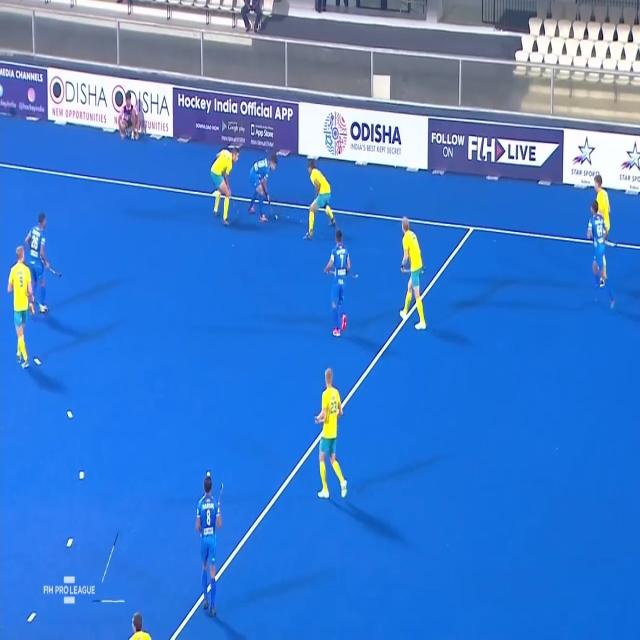ball: (272, 211, 281, 223)
